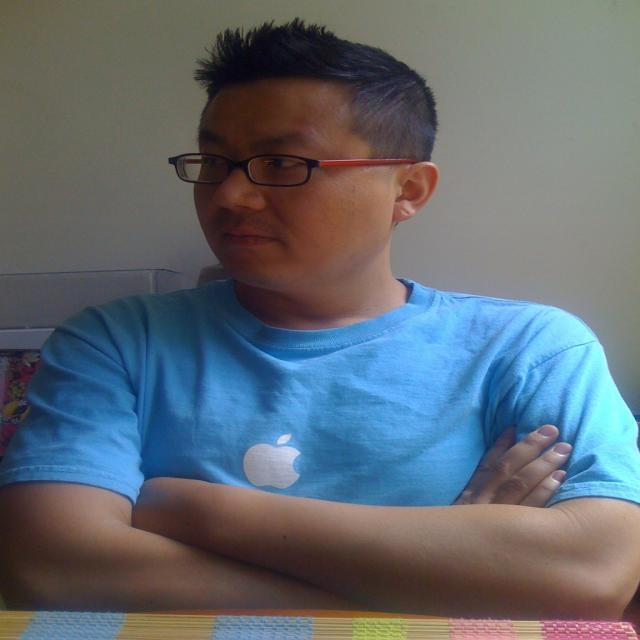closed-mouth: (218, 220, 276, 248)
